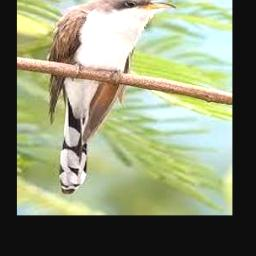Cuckoo: (47, 0, 176, 195)
